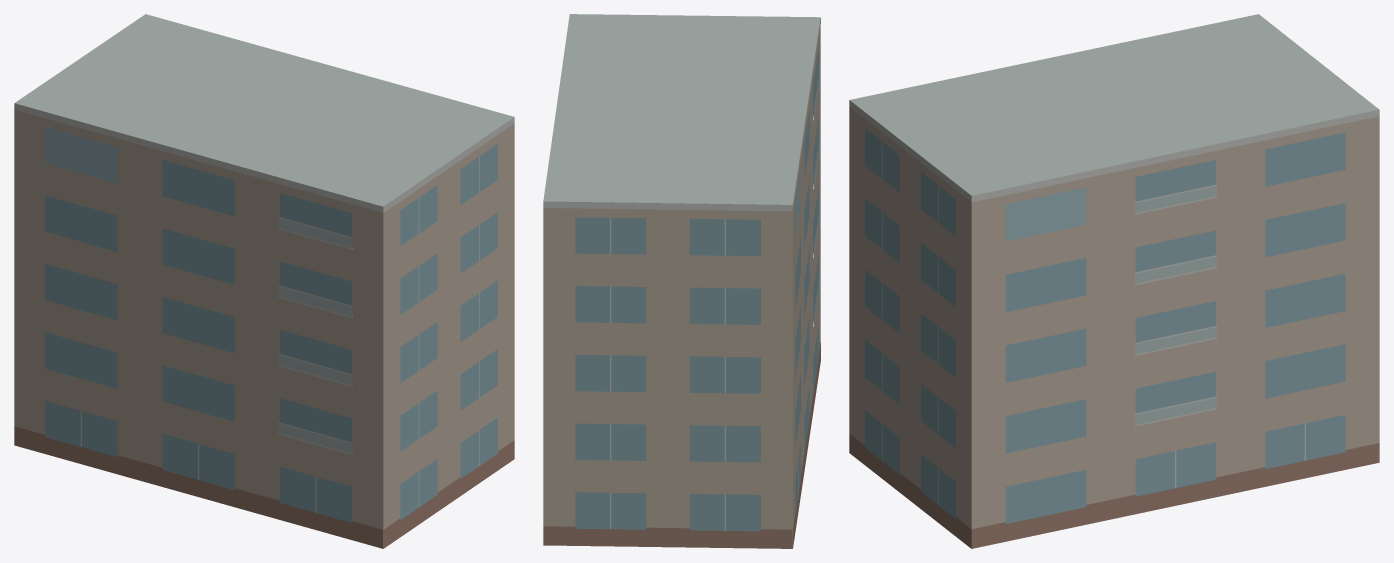
The model's file is survey-upis-32889310.glb.
The picture shows the model from 3 angles, left to right: view 1: azimuth 30°, elevation 25°; view 2: azimuth 150°, elevation 25°; view 3: azimuth 270°, elevation 25°; orthographic projection. The views are drawn at different scales.
Visible parts, largest first — view 1: survey-upis-32889310.tmp; view 2: survey-upis-32889310.tmp; view 3: survey-upis-32889310.tmp.
Part boxes in pixels (x1,y1,x2,y2): survey-upis-32889310.tmp: (14, 14, 514, 548); survey-upis-32889310.tmp: (543, 14, 820, 548); survey-upis-32889310.tmp: (849, 14, 1379, 548).
Size of the model in its own units: 14.37 by 13 by 17.7.
